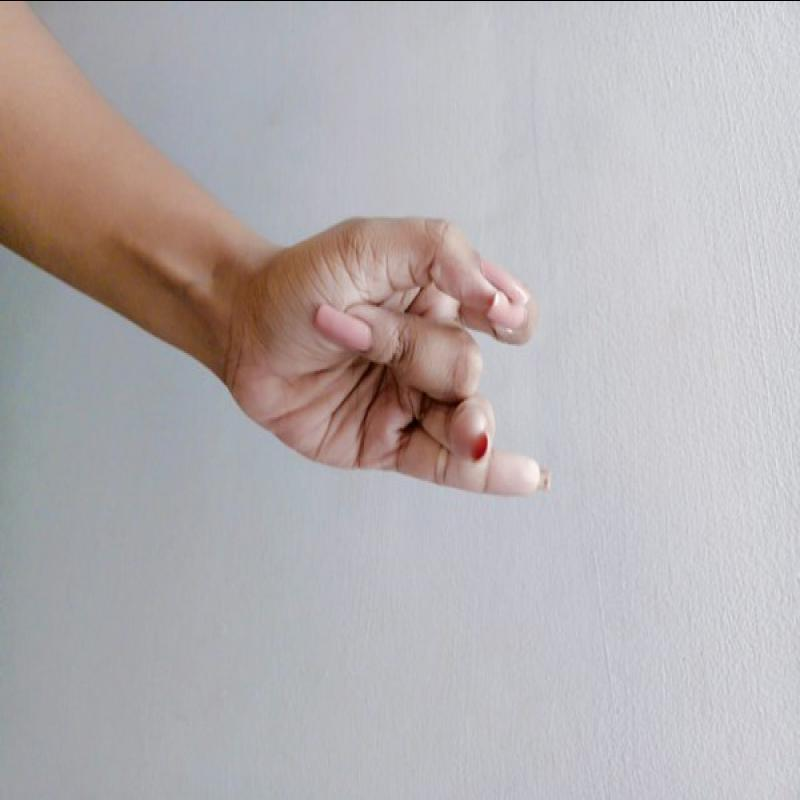Katakam: (236, 186, 587, 528)
